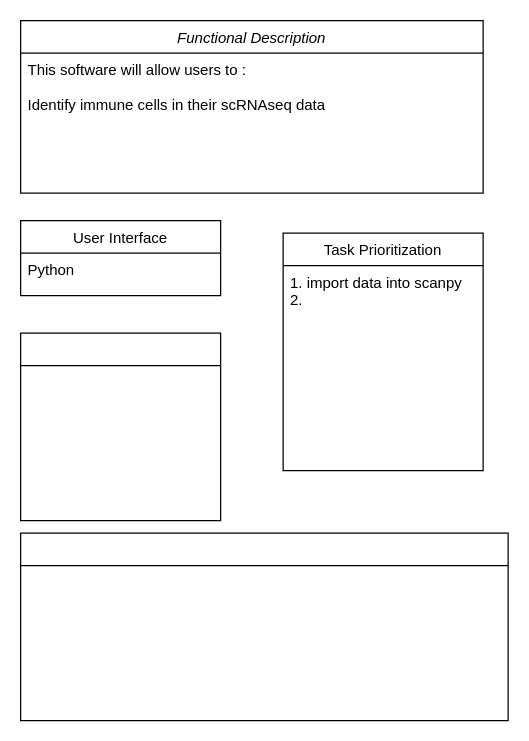
Some shapes in this 529 by 741 pixel diagram are drawn without their labels. The shapes that lost their labels are listed below. From the top down, each one's centre as x and y in pixels, then its label:
At (120,426): "Goals and Milestones".
At (263,626): "Proposed Solutions".
